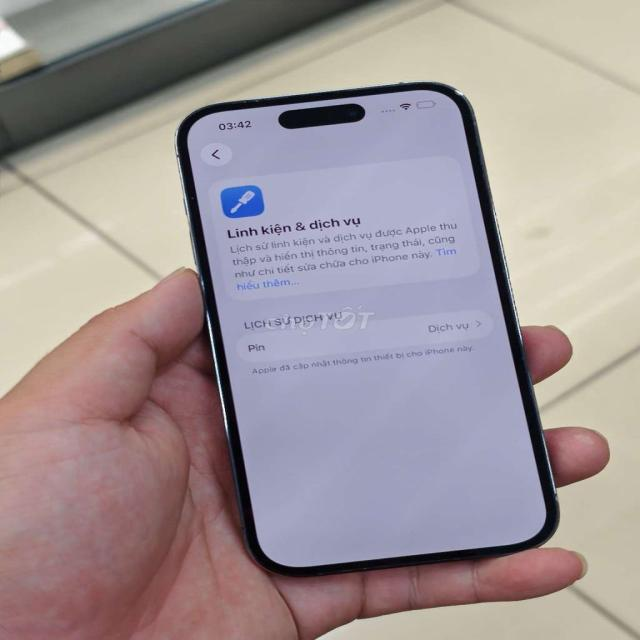gen_14: (161, 82, 571, 588)
